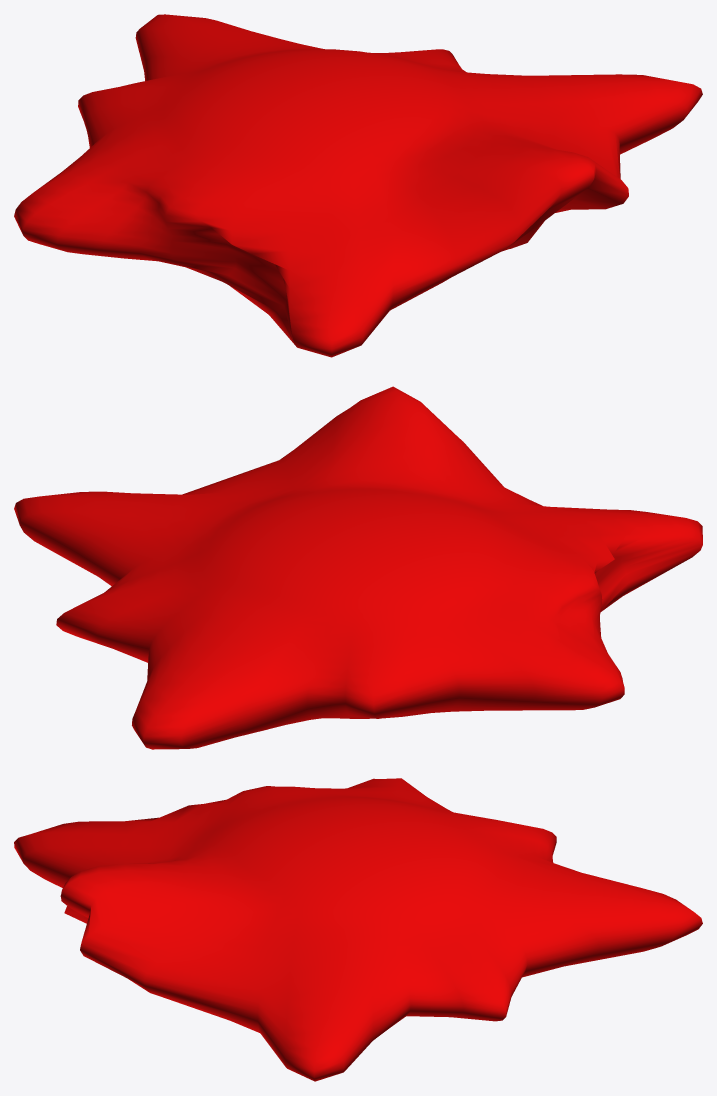
File: Enemie.fbx
The picture shows the model from 3 angles, top to bottom: view 1: azimuth 30°, elevation 25°; view 2: azimuth 150°, elevation 25°; view 3: azimuth 270°, elevation 25°; orthographic projection. The views are drawn at different scales.
Visible parts, largest first — view 1: pSphere1; view 2: pSphere1; view 3: pSphere1.
Boxes of the visible parts, x1,y1,x2,y2 form: pSphere1: [14, 14, 702, 357]; pSphere1: [14, 386, 702, 749]; pSphere1: [14, 778, 702, 1081].
Bounding box in the file's own units: 3.61 × 0.8649 × 3.58.
